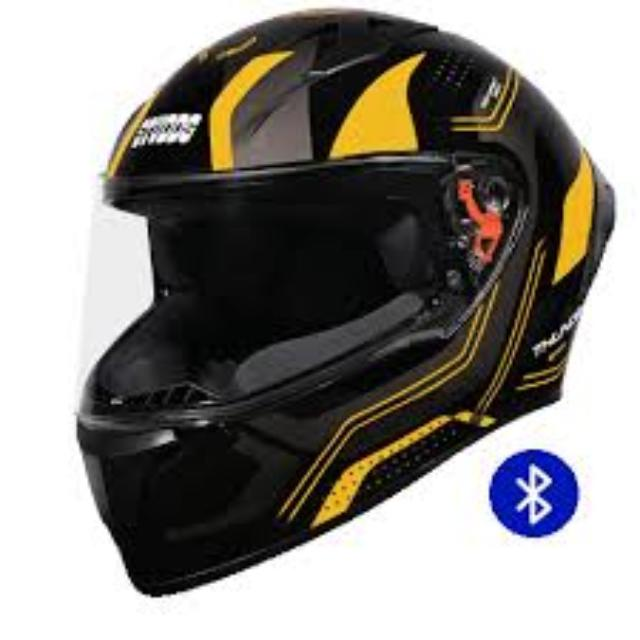motorcycle-helmets: (77, 11, 600, 594)
